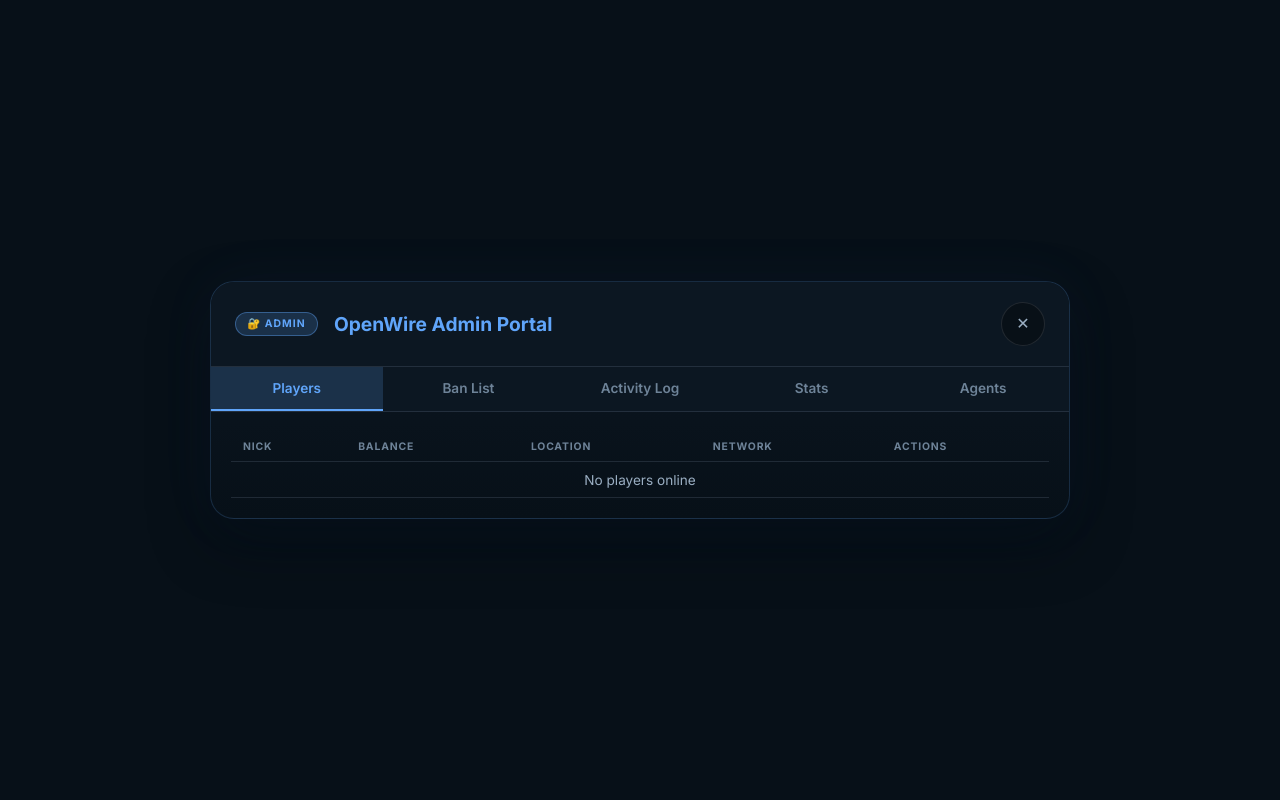
Test: AdminPortal — Tab navigation › switches to Ban List tab and shows empty state
Click the button "Ban List": {"x": 468, "y": 389} [383,367,554,411]
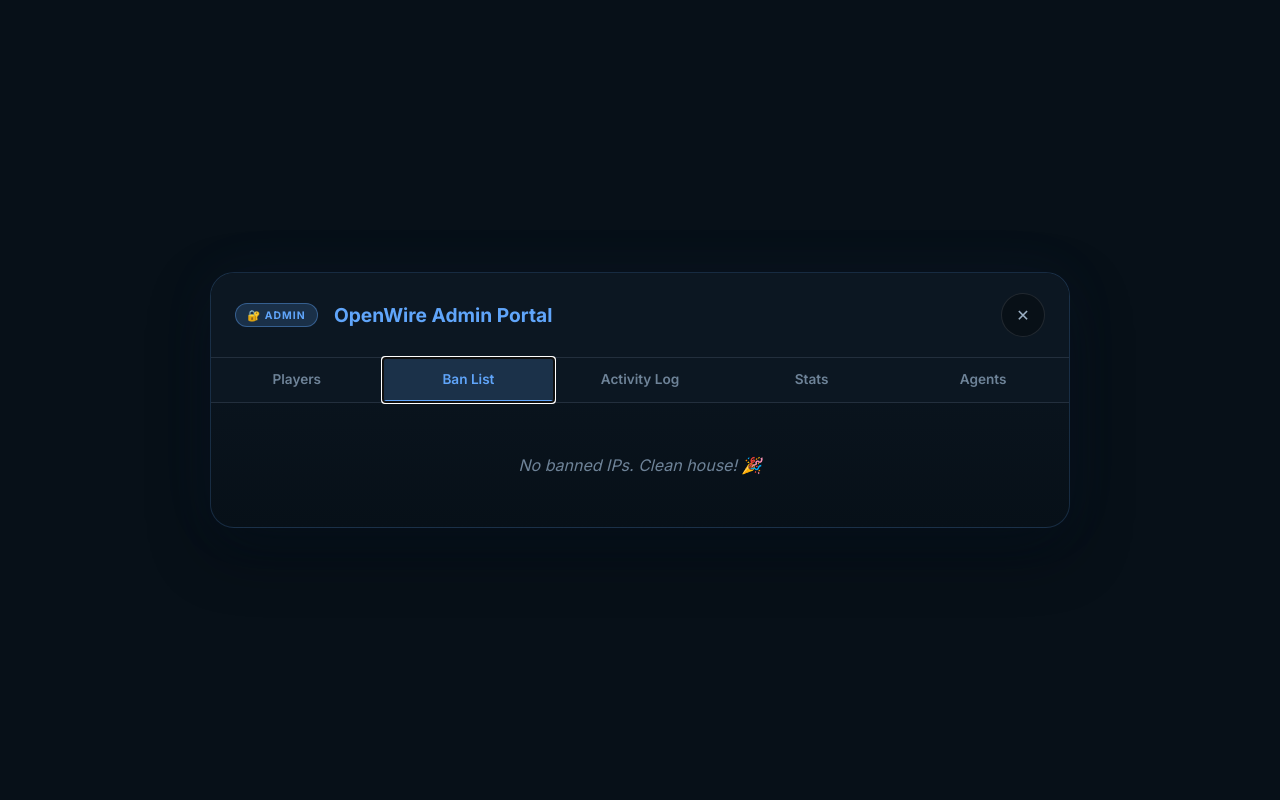
Now the text "No banned IPs. Clean house! 🎉" is shown, box [518,455,762,475]
